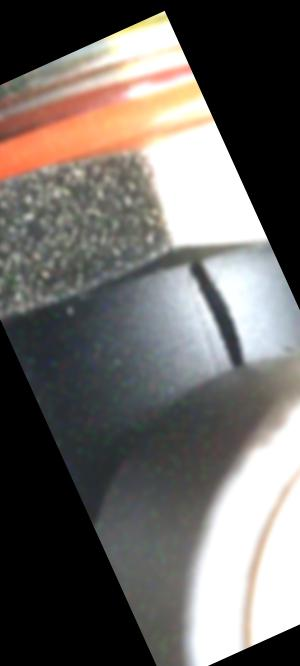craze: (184, 256, 254, 374)
joint line: (181, 290, 230, 374)
